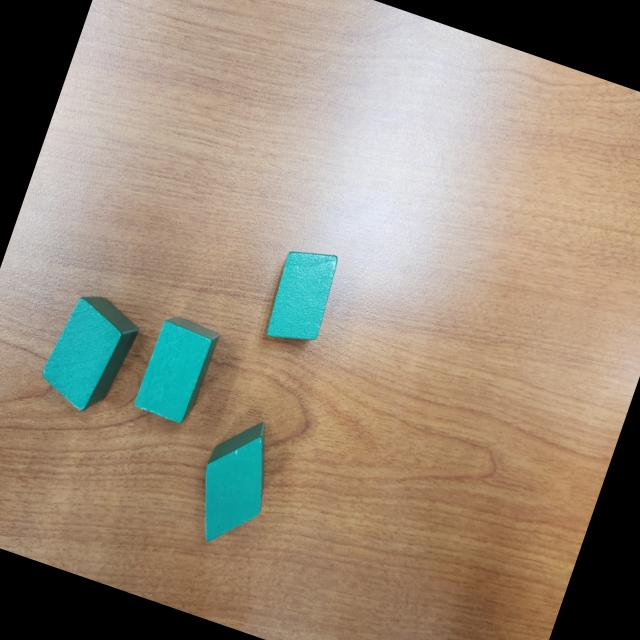green: (182, 408, 288, 554), (32, 286, 144, 422), (130, 312, 223, 428), (258, 240, 344, 353)
